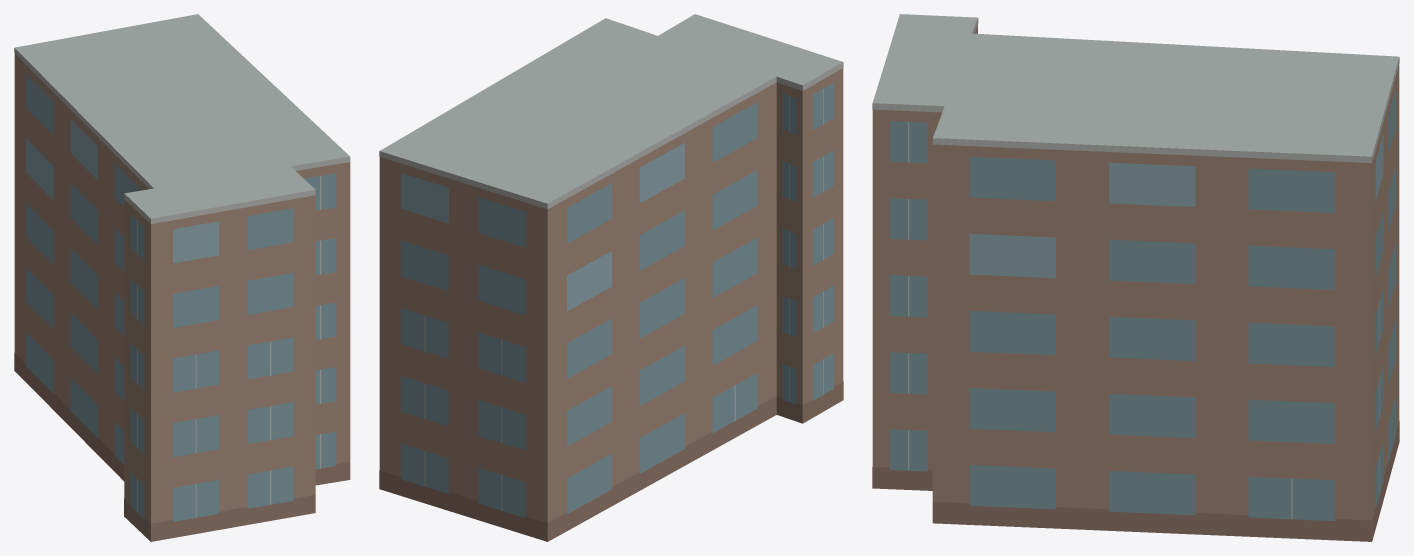
Rendered from survey-upis-32968019.glb.
The picture shows the model from 3 angles, left to right: view 1: azimuth 30°, elevation 25°; view 2: azimuth 150°, elevation 25°; view 3: azimuth 270°, elevation 25°; orthographic projection. The views are drawn at different scales.
Parts seen in each view (by area): view 1: survey-upis-32968019.tmp; view 2: survey-upis-32968019.tmp; view 3: survey-upis-32968019.tmp.
Part boxes in pixels (x1,y1,x2,y2): survey-upis-32968019.tmp: [14, 14, 350, 541]; survey-upis-32968019.tmp: [379, 14, 843, 541]; survey-upis-32968019.tmp: [872, 14, 1399, 541].
Size of the model in its own units: 11.65 by 14.65 by 18.18.
